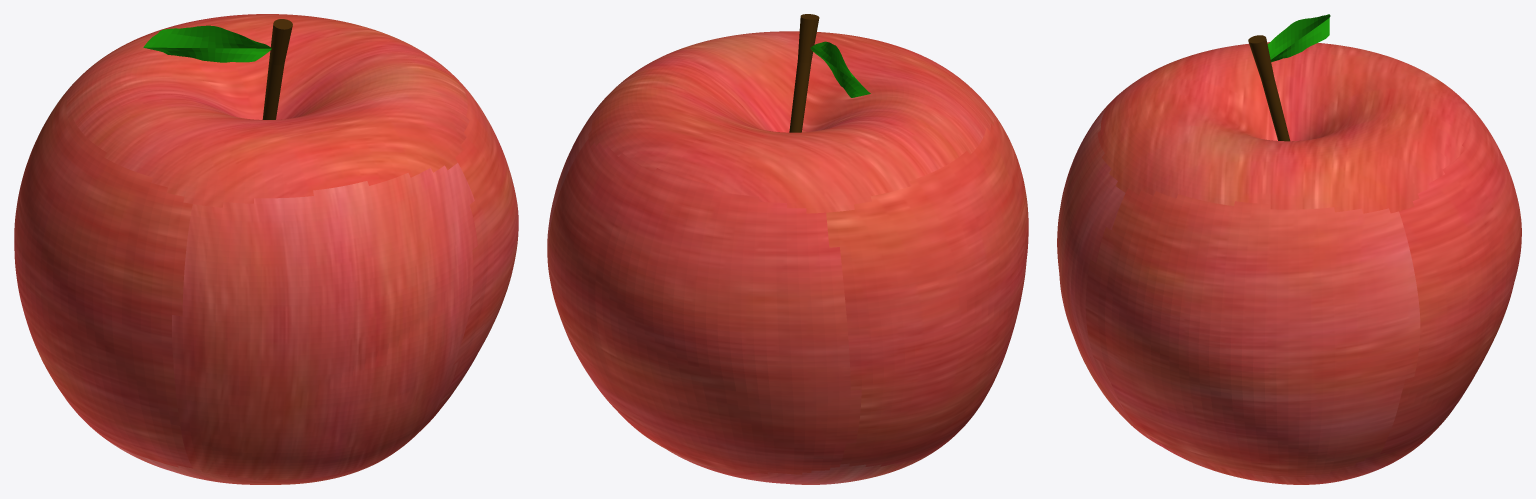
File: Apple.FBX
The picture shows the model from 3 angles, left to right: view 1: azimuth 30°, elevation 25°; view 2: azimuth 150°, elevation 25°; view 3: azimuth 270°, elevation 25°; orthographic projection. The views are drawn at different scales.
Visible parts, largest first — view 1: Sphere; view 2: Sphere; view 3: Sphere.
Boxes of the visible parts, bbox=[...] form: Sphere: bbox=[14, 14, 518, 484]; Sphere: bbox=[547, 14, 1028, 484]; Sphere: bbox=[1057, 14, 1521, 484].
Bounding box in the file's own units: 197 × 182 × 194.
